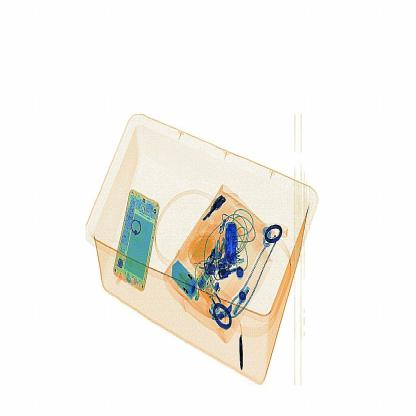scissors: (222, 214, 243, 270)
